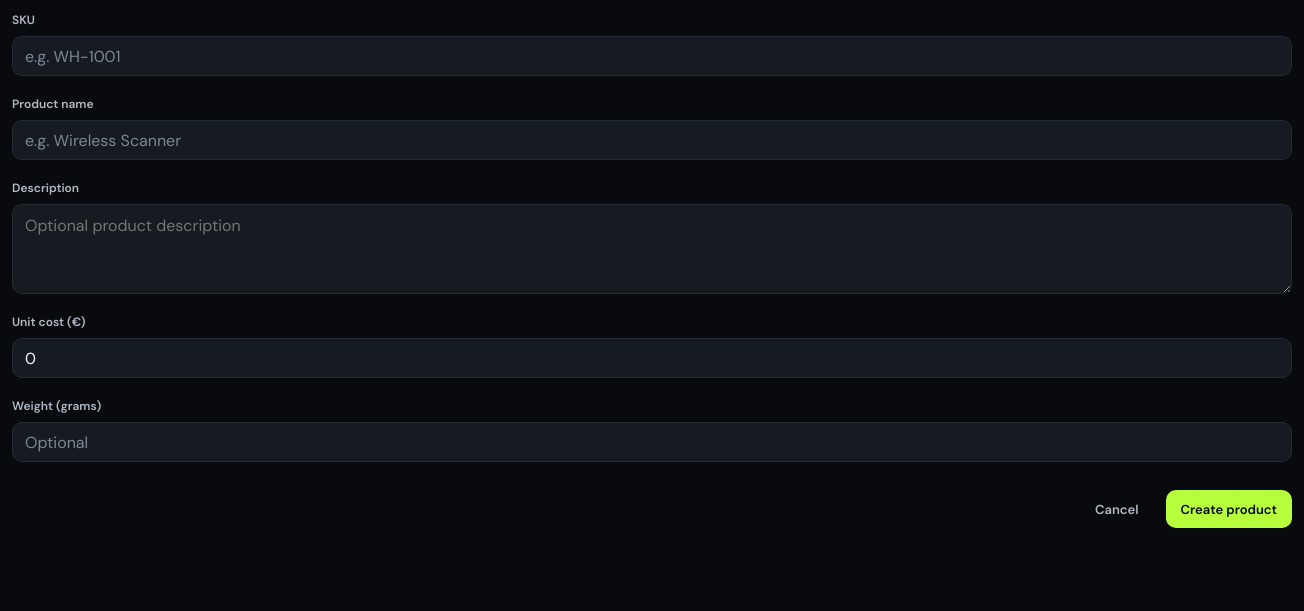
Scenario: ProductForm › rejects an empty SKU and name instead of submitting
Click the button "Create product": (1229, 509) 1166,490 -> 1292,528
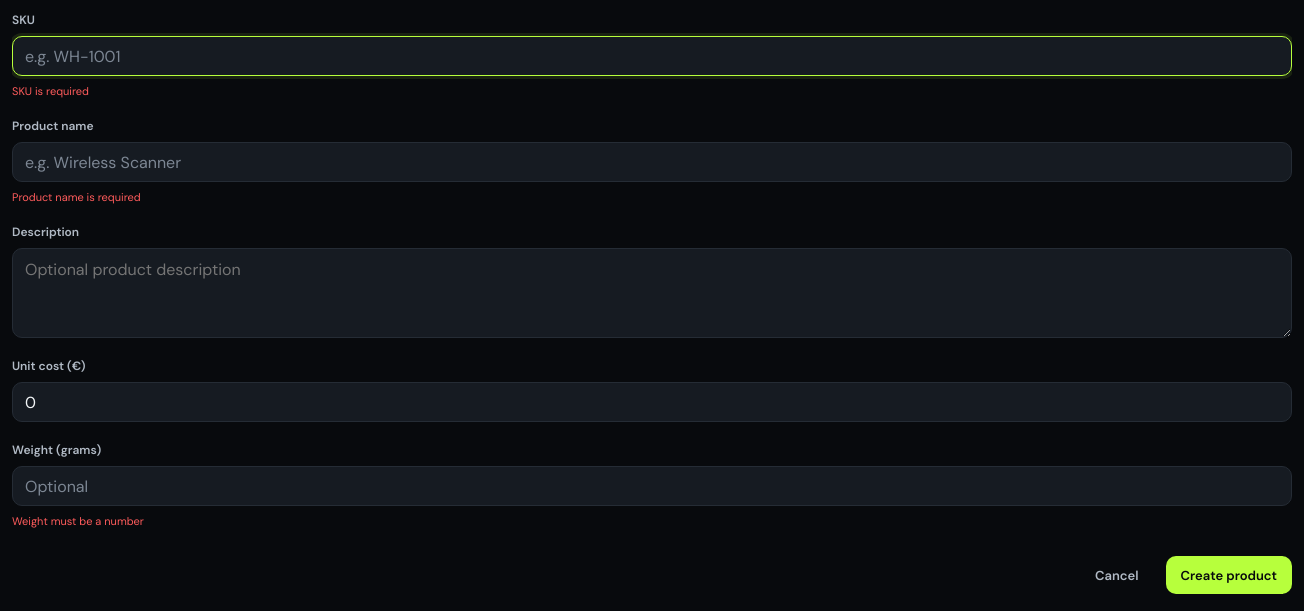
Check: the text "SKU is required" is shown, box 12,84 -> 89,98
Check: the text "Product name is required" is shown, box 12,190 -> 141,204
